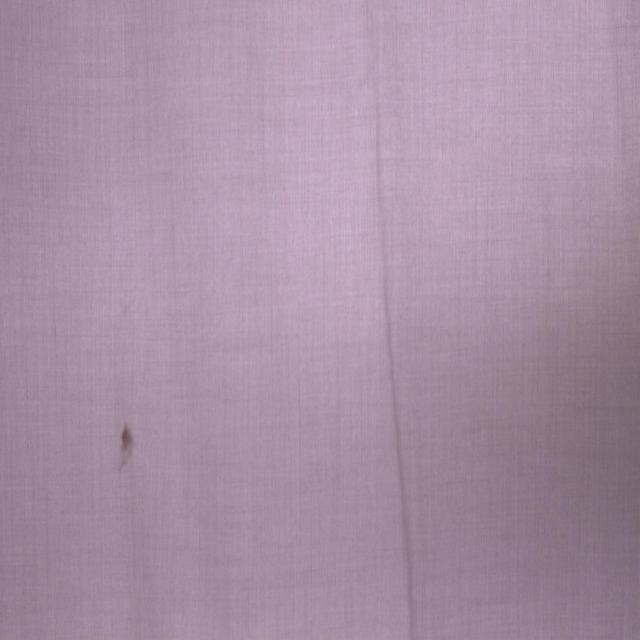dirty: (120, 428, 134, 462)
